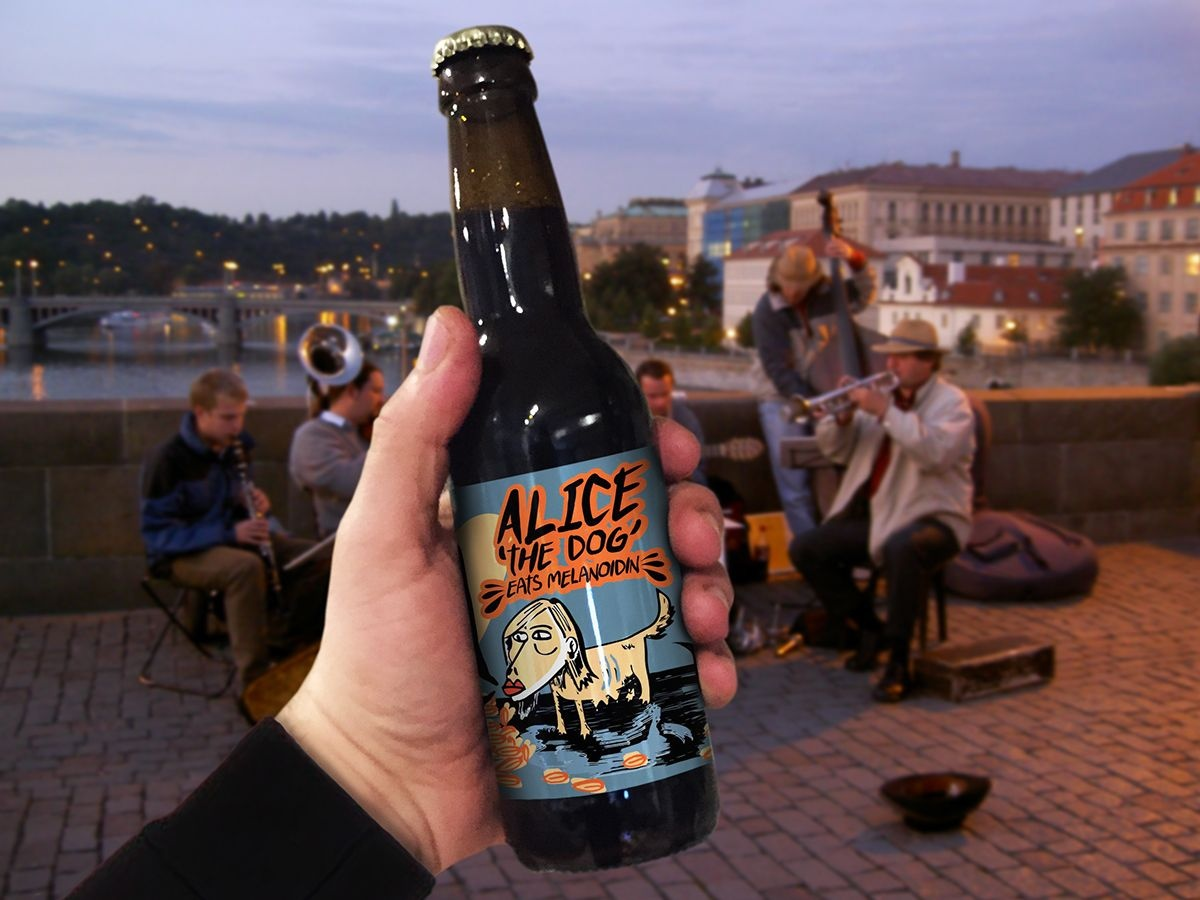beerBottle: (432, 28, 726, 855)
